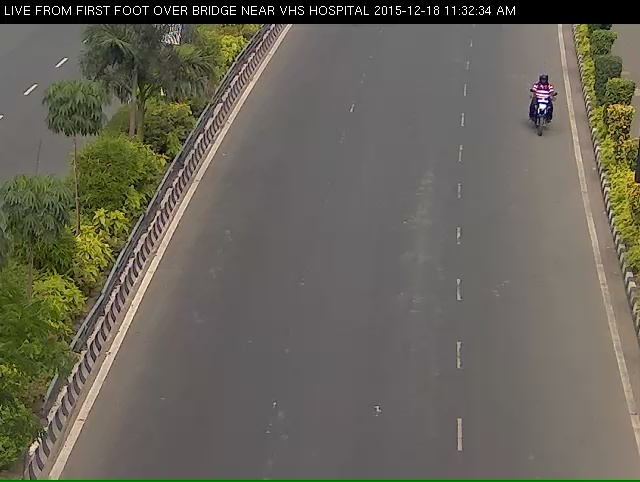Person: (521, 66, 567, 144)
